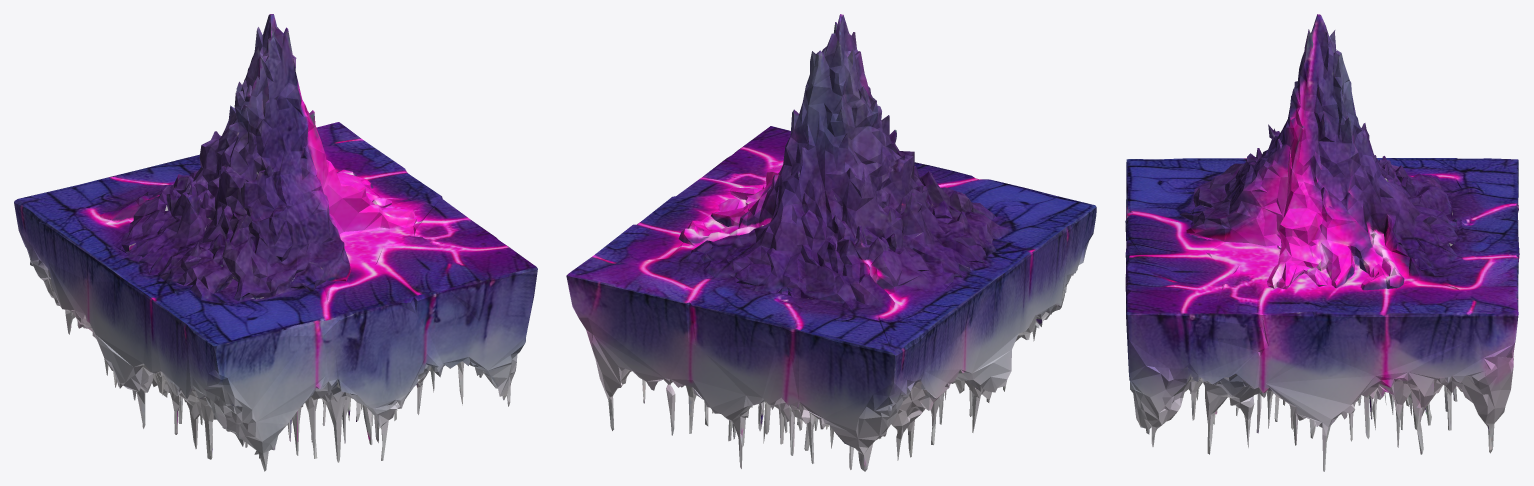
The model's file is solitude-ground-plateau.collider.glb.
3 renders of one model, left to right at view 1: azimuth 30°, elevation 25°; view 2: azimuth 150°, elevation 25°; view 3: azimuth 270°, elevation 25°, orthographic. The views are drawn at different scales.
Parts seen in each view (by area): view 1: temp_mesh.ply; view 2: temp_mesh.ply; view 3: temp_mesh.ply.
Boxes of the visible parts, x1,y1,x2,y2 form: temp_mesh.ply: (14, 14, 537, 471); temp_mesh.ply: (566, 14, 1096, 471); temp_mesh.ply: (1125, 14, 1519, 471).
Bounding box in the file's own units: 1.78 × 1.97 × 1.87.
1 material, 1 textured.
